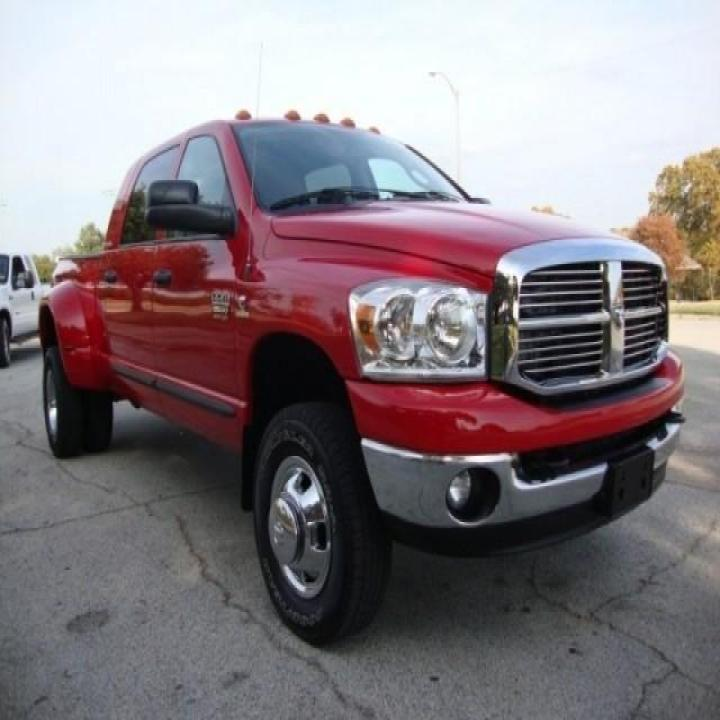car: (37, 107, 686, 646), (0, 250, 43, 368)
